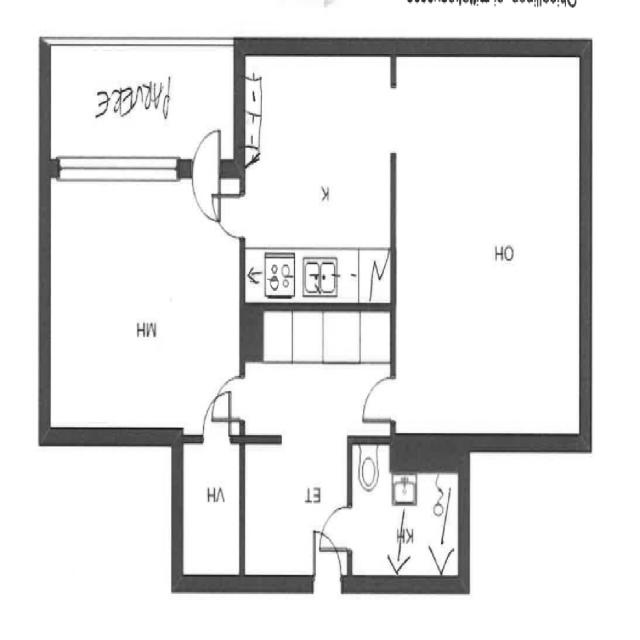door: (307, 522, 349, 634), (188, 121, 224, 228), (198, 370, 243, 437), (356, 371, 406, 428), (208, 184, 248, 245), (317, 501, 355, 555)
window: (52, 150, 183, 186)
zone: (397, 50, 586, 449), (47, 172, 242, 434), (237, 48, 395, 308), (248, 308, 396, 440), (348, 444, 463, 583), (241, 440, 347, 582), (180, 437, 242, 582)
